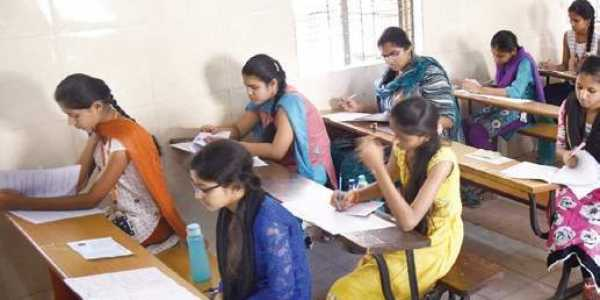student: (40, 53, 178, 264), (352, 89, 458, 294), (194, 144, 290, 300), (235, 46, 327, 175), (356, 23, 455, 120), (547, 51, 600, 211), (476, 20, 540, 131), (555, 1, 594, 92)
